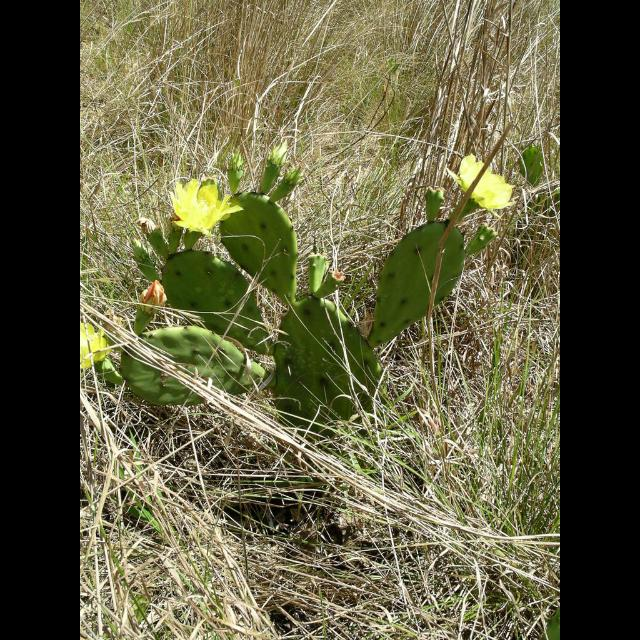Flower: (166, 167, 234, 230), (450, 152, 520, 212), (84, 320, 115, 370)
